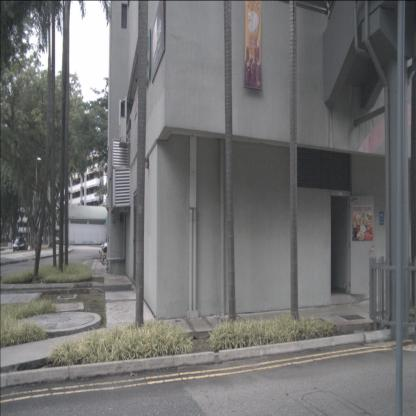vehicle-bicycle: (99, 243, 107, 266)
vehicle-car: (98, 238, 126, 254), (13, 237, 28, 252)
